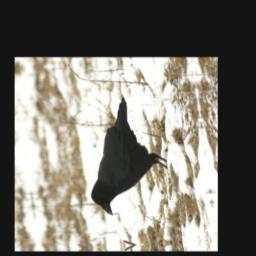Crow: (74, 96, 177, 220)
